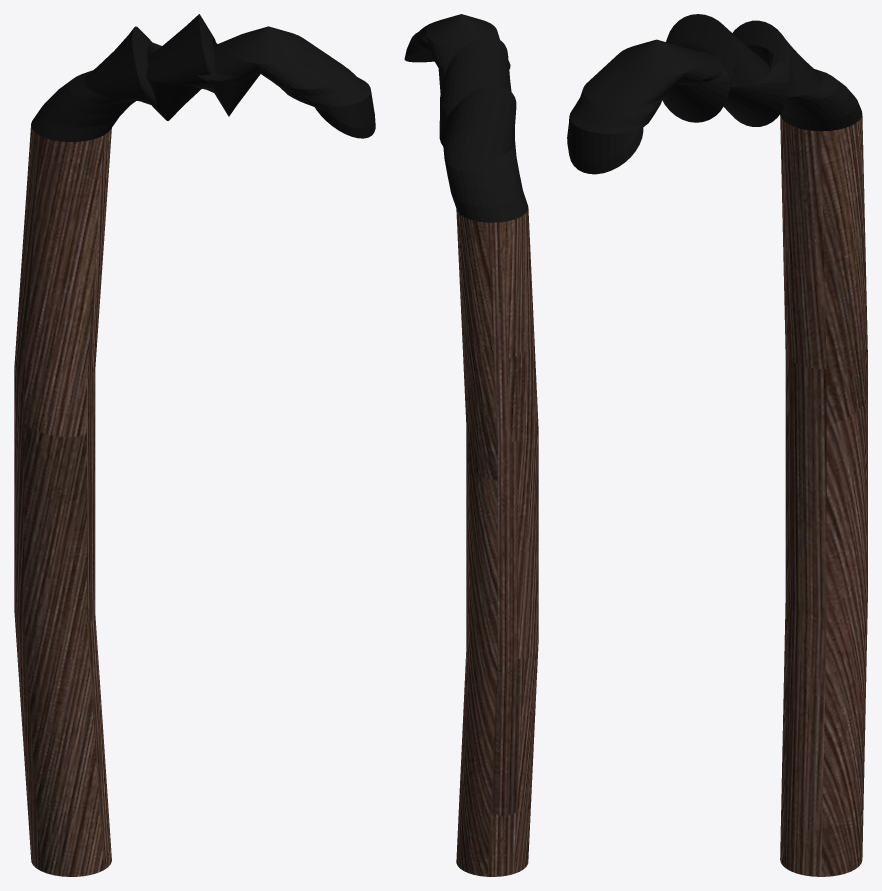
File: staff.fbx
The picture shows the model from 3 angles, left to right: view 1: azimuth 30°, elevation 25°; view 2: azimuth 150°, elevation 25°; view 3: azimuth 270°, elevation 25°; orthographic projection. The views are drawn at different scales.
Parts seen in each view (by area): view 1: Circle; view 2: Circle; view 3: Circle.
Boxes of the visible parts, box(x1,y1,x2,y2) form: Circle: box(14, 14, 375, 876); Circle: box(404, 14, 538, 876); Circle: box(567, 14, 867, 876).
Size of the model in its own units: 700 by 2357 by 731.
